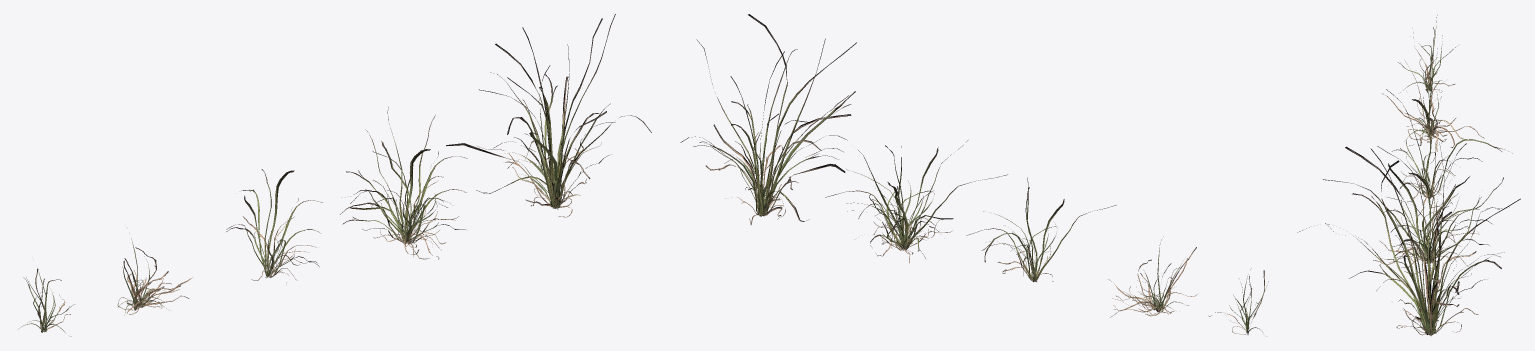
File: grass_medium_02.glb
3 views of the same model, side by side, from view 1: azimuth 30°, elevation 25°; view 2: azimuth 150°, elevation 25°; view 3: azimuth 270°, elevation 25° (orthographic). The views are drawn at different scales.
Visible parts, largest first — view 1: grass_medium_02_e, grass_medium_02_d, grass_medium_02_c, grass_medium_02_b, grass_medium_02_a; view 2: grass_medium_02_e, grass_medium_02_d, grass_medium_02_c, grass_medium_02_b, grass_medium_02_a; view 3: grass_medium_02_e, grass_medium_02_d, grass_medium_02_c, grass_medium_02_b, grass_medium_02_a.
Boxes of the visible parts, x1,y1,x2,y2 form: grass_medium_02_e: (446, 14, 651, 217); grass_medium_02_d: (340, 107, 467, 259); grass_medium_02_c: (226, 169, 322, 280); grass_medium_02_b: (117, 238, 192, 315); grass_medium_02_a: (19, 268, 74, 336); grass_medium_02_e: (680, 14, 856, 224); grass_medium_02_d: (825, 140, 1007, 262); grass_medium_02_c: (966, 177, 1116, 281); grass_medium_02_b: (1108, 236, 1197, 317); grass_medium_02_a: (1209, 269, 1268, 334); grass_medium_02_e: (1297, 142, 1520, 335); grass_medium_02_d: (1323, 143, 1509, 274); grass_medium_02_c: (1386, 89, 1512, 215); grass_medium_02_b: (1382, 48, 1484, 151); grass_medium_02_a: (1398, 15, 1455, 92).
Bounding box in the file's own units: 0.8 × 0.2474 × 0.2644.
Materials: 1 (1 with a texture image).
